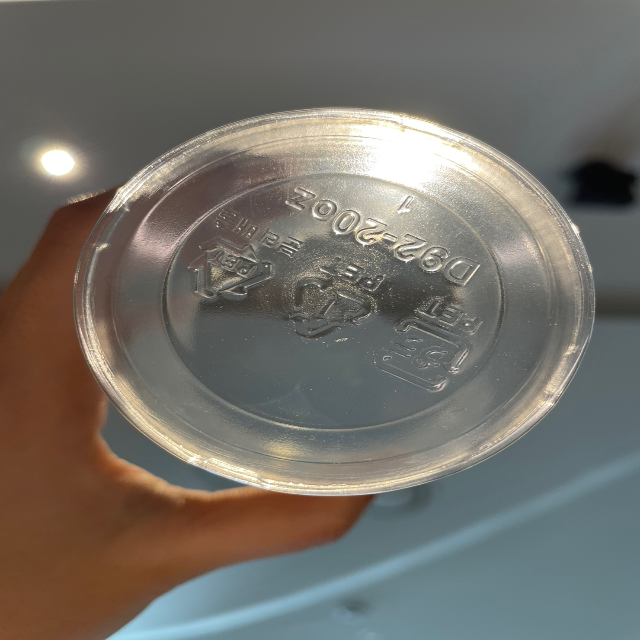pet: (371, 294, 490, 396), (184, 204, 300, 307), (280, 253, 387, 347)
